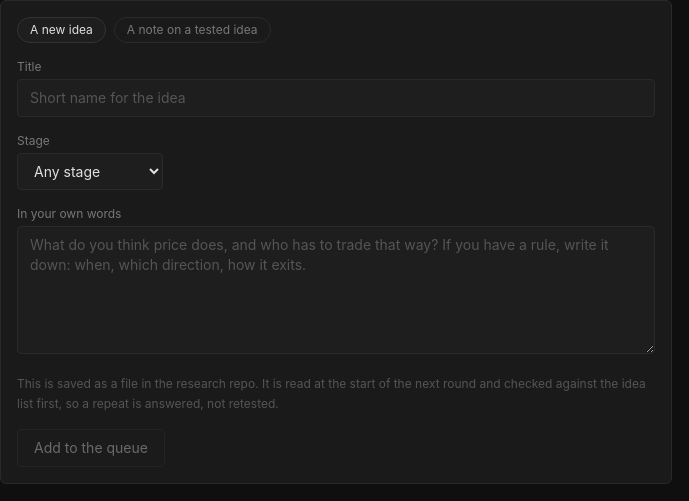
Scenario: IdeaForm › keeps the button disabled until the form is valid, then saves and clears
The image size is (689, 501).
Expected: the button "Add to the queue" is disabled, [17,429,165,467]
In the field labelled "Title": (336, 98) [17,79,655,117], type "Fade the open"
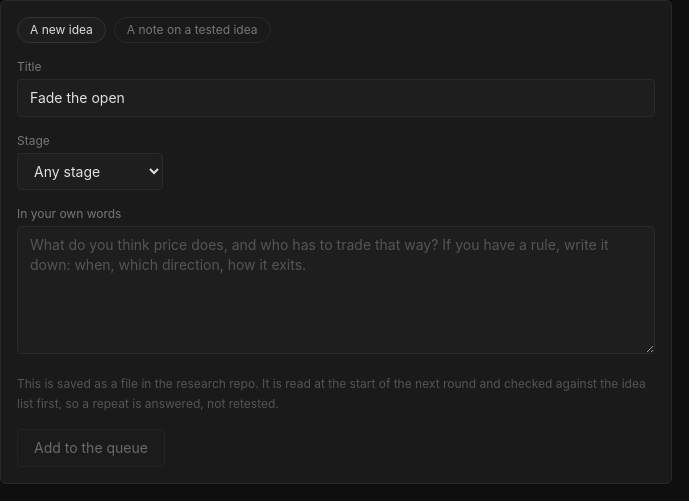
Replace the text in the text box labelled "In your own words" with "Price overreacts at the open.": (336, 290) [17,226,655,354]
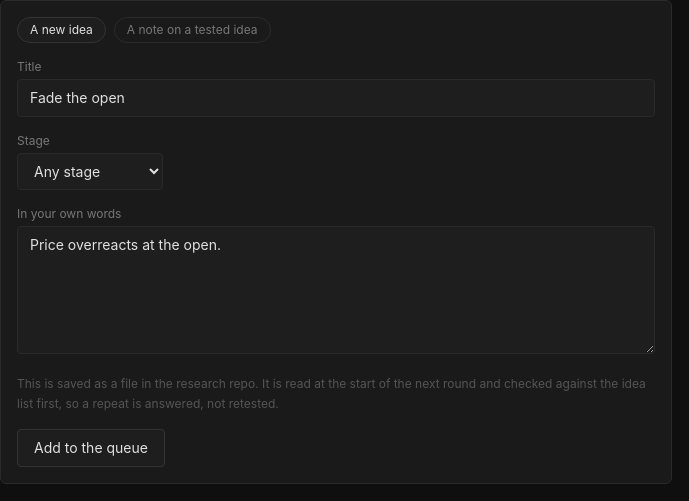
Expected: the button "Add to the queue" is enabled
Click the button "Add to the queue": (91, 448) [17,429,165,467]
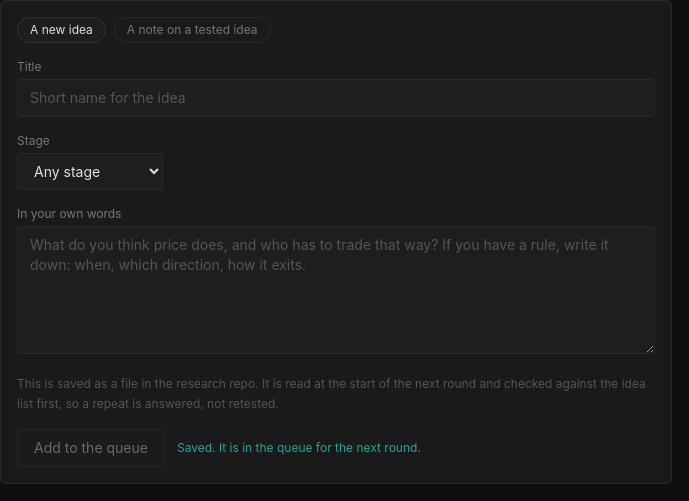
Expected: the text "Saved. It is in the queue for the next round." is shown, [177,440,421,456]
